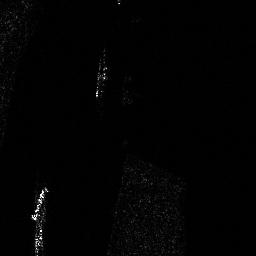ship: (31, 186, 47, 221)
